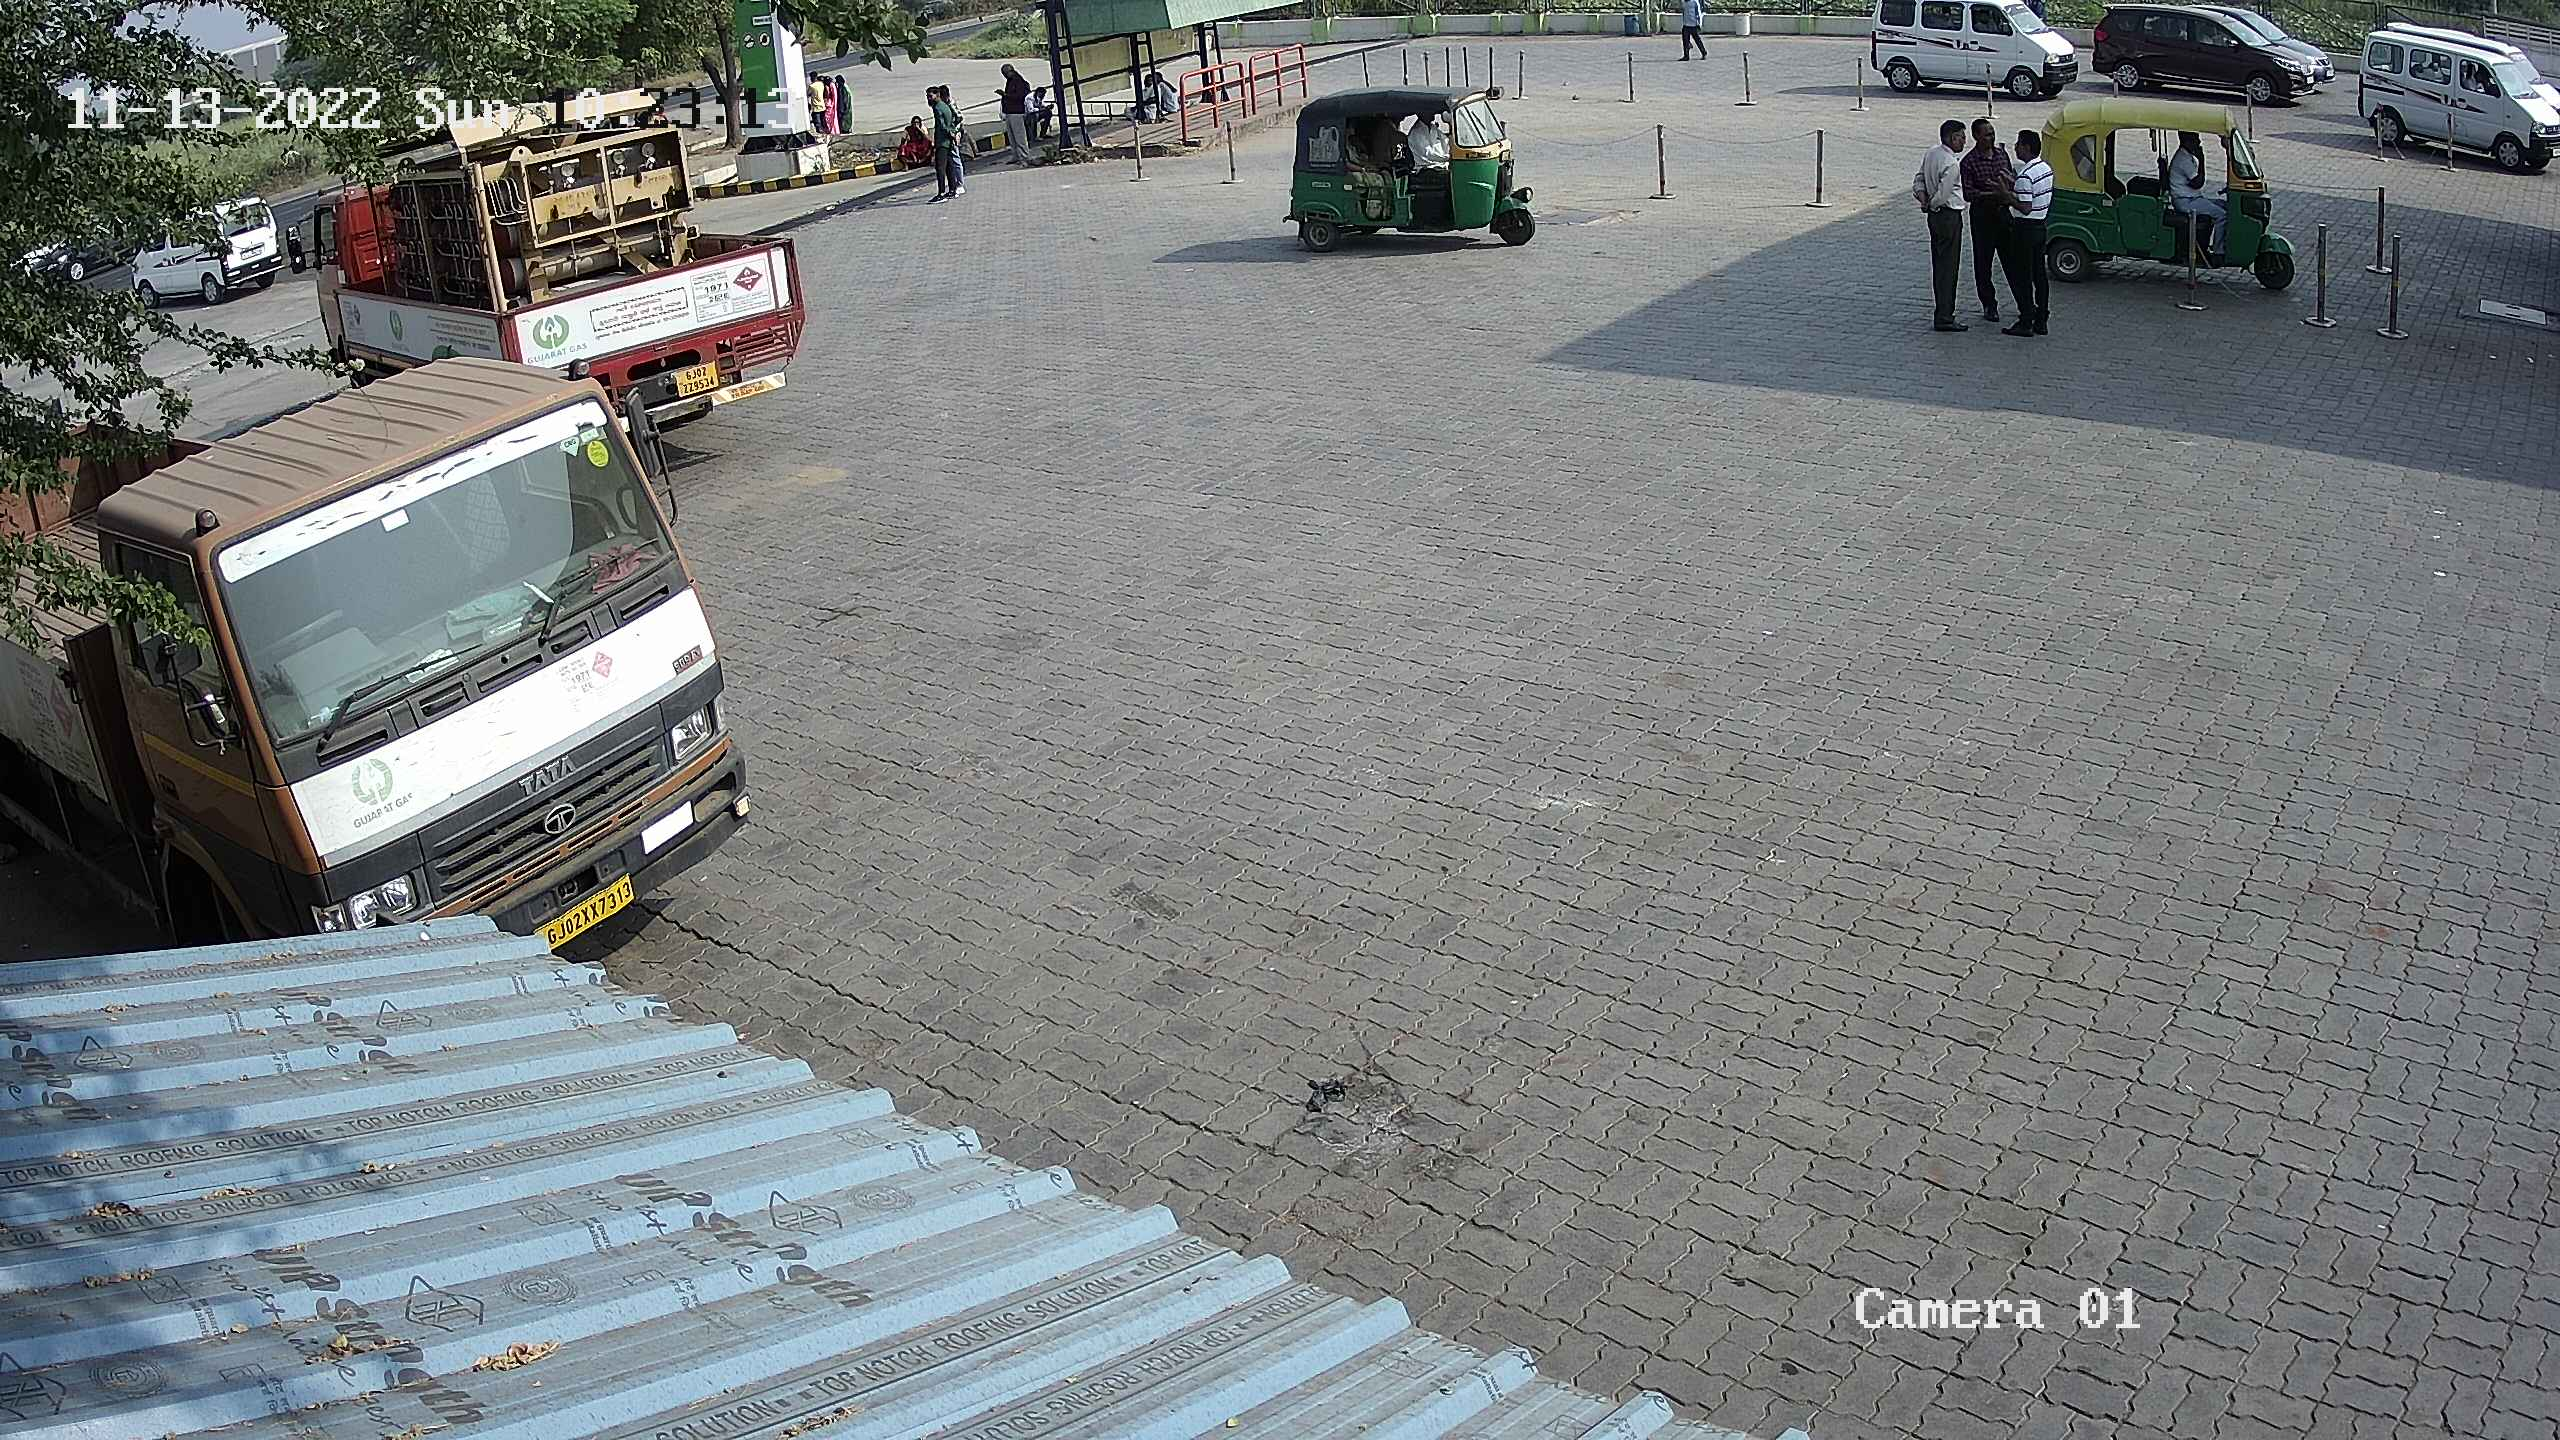Auto: (1999, 91, 2287, 306), (1278, 69, 1544, 273)
Car: (2349, 23, 2558, 178), (2085, 0, 2321, 111), (113, 183, 294, 316), (1858, 2, 2087, 98), (2379, 11, 2556, 128), (2194, 0, 2345, 91)
HMV: (0, 338, 765, 962), (274, 67, 809, 454)
